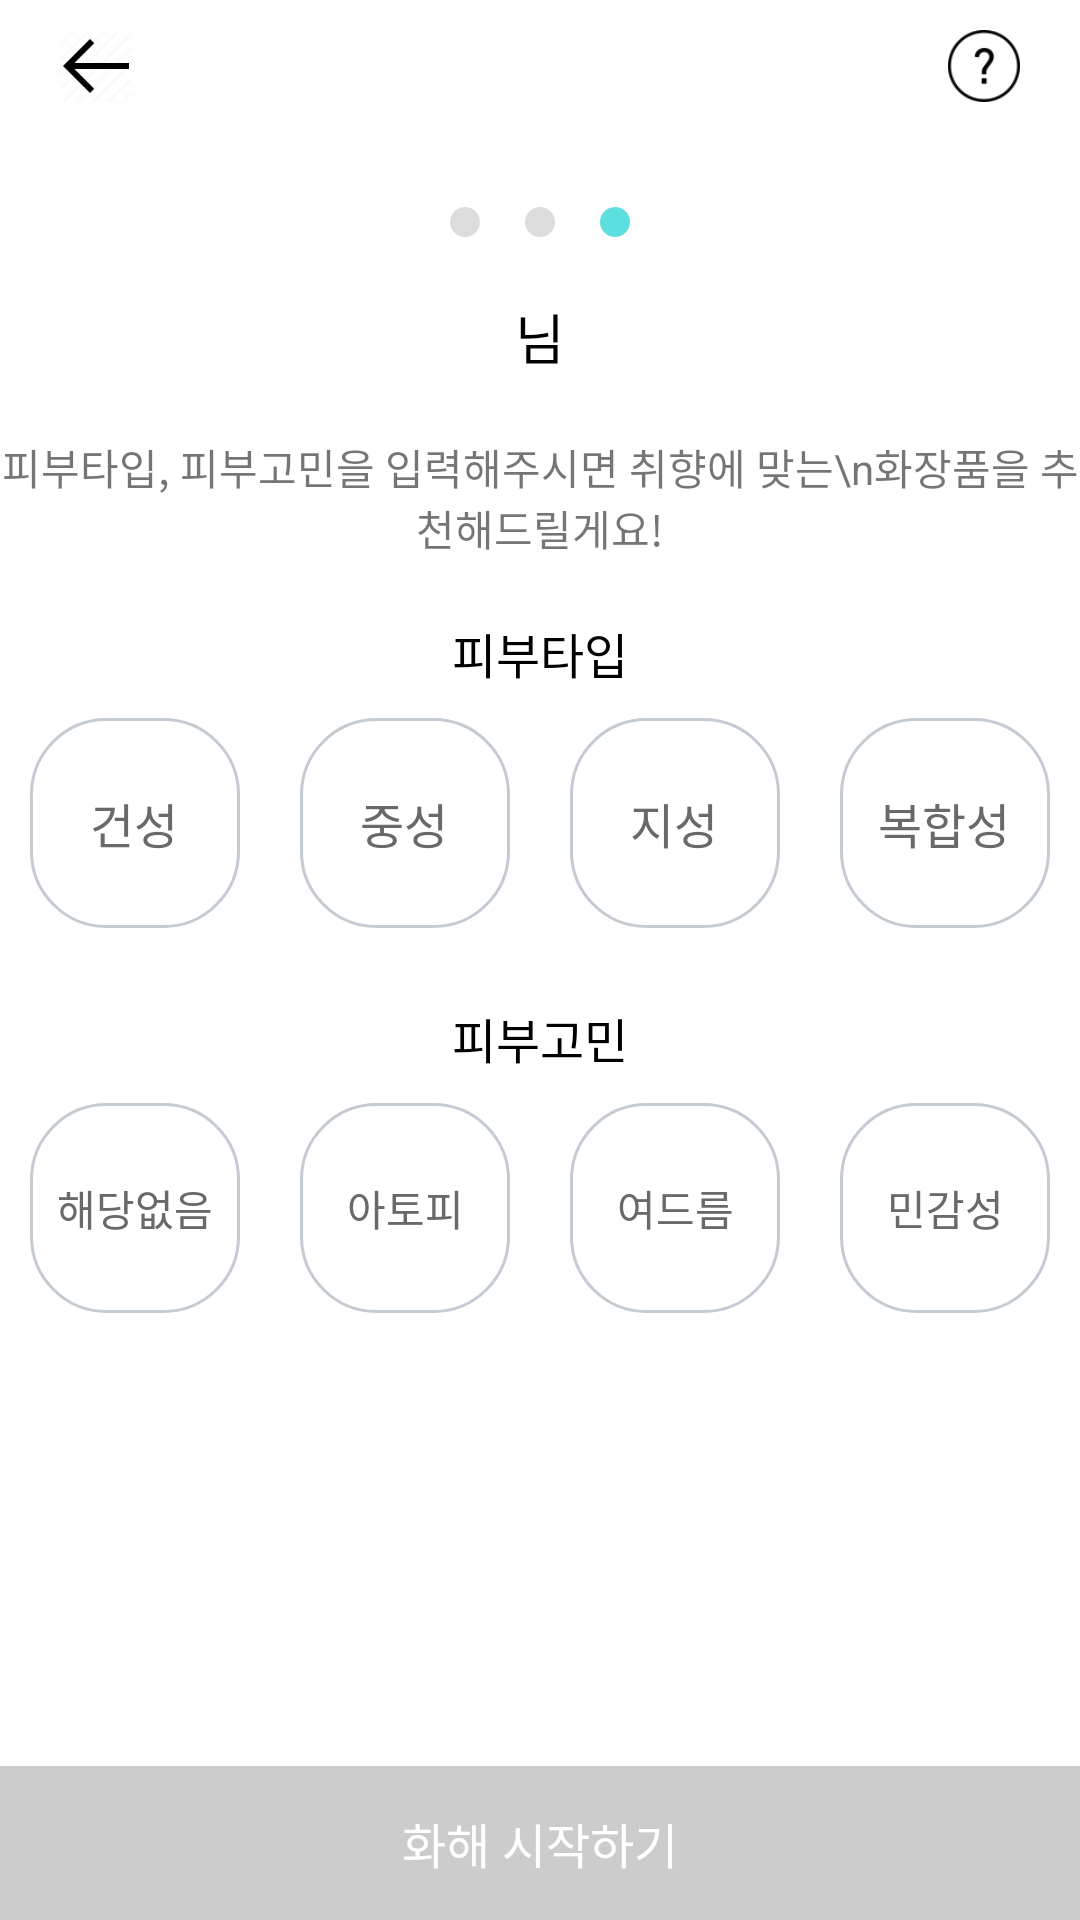

Icons on this 1080 × 1920 Android screen, each with the point to tap as (x,y):
back: (96,66)
help: (984,66)
